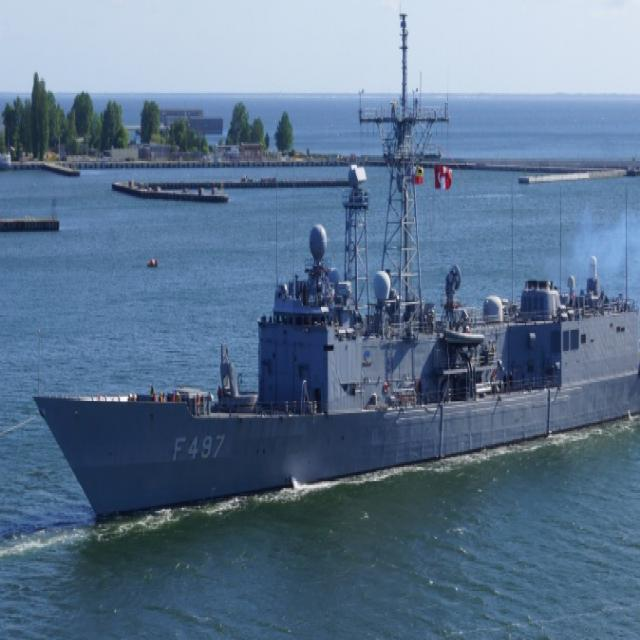Fragata: (28, 1, 640, 541)
